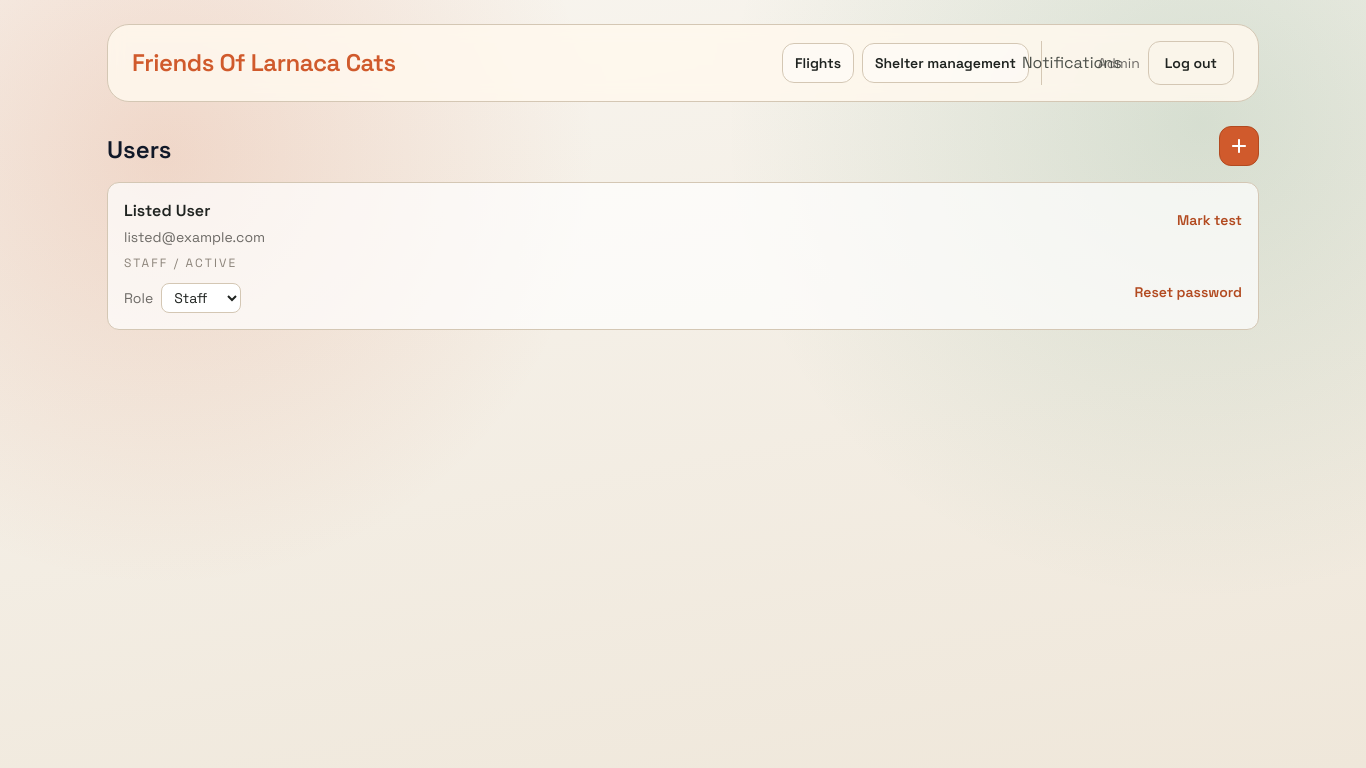
it: AdminUsersPage › renders the admin registration experience for admins
Expected: the text "Listed User" is shown, [124, 200, 210, 221]
Click the button named "Register user" at (1239,146), box [1219, 126, 1259, 166]
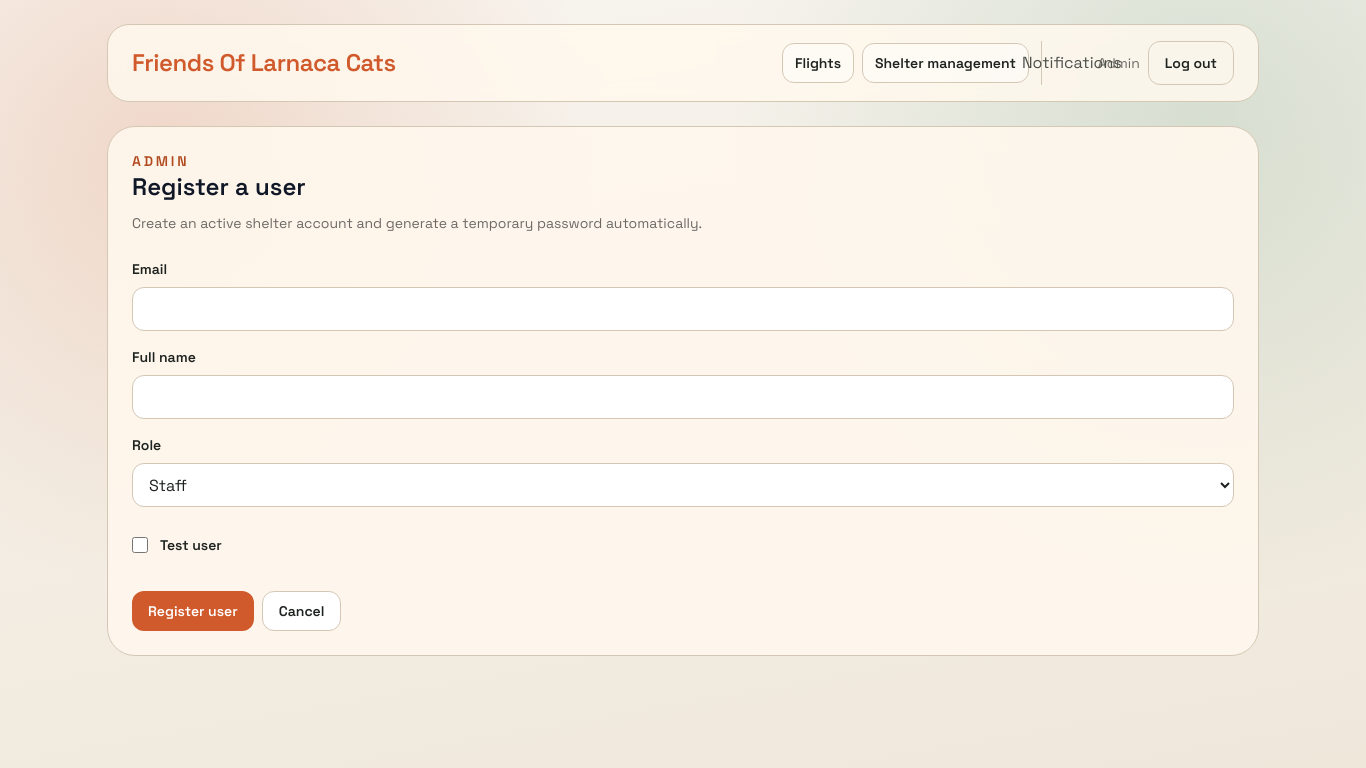
Result: the heading "Register a user" is shown at [132, 171, 306, 202]
Result: the text "Listed User" is gone
